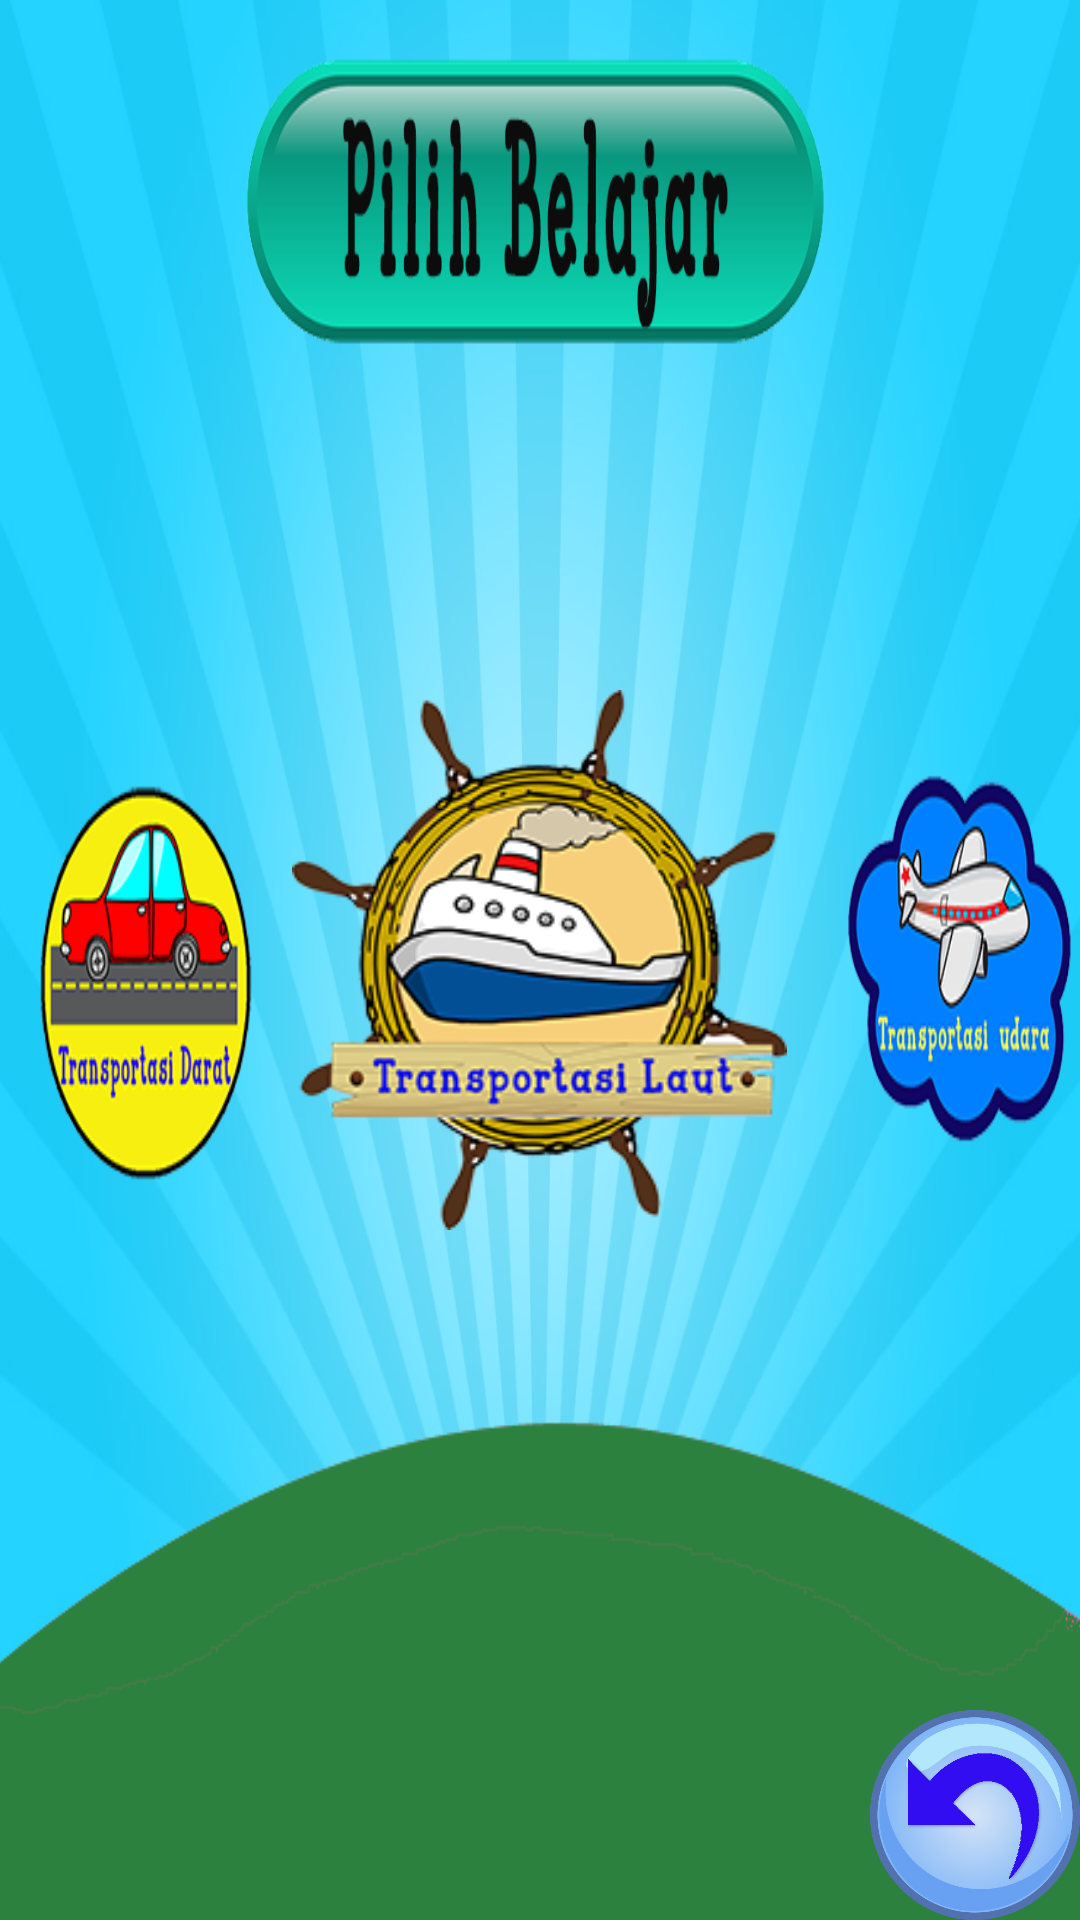

Icons on this 1080×1920 Android screen, each with its box as (left=x1, top=y1, right=x2, bottom=y2):
back: (left=870, top=1710, right=1080, bottom=1920)
